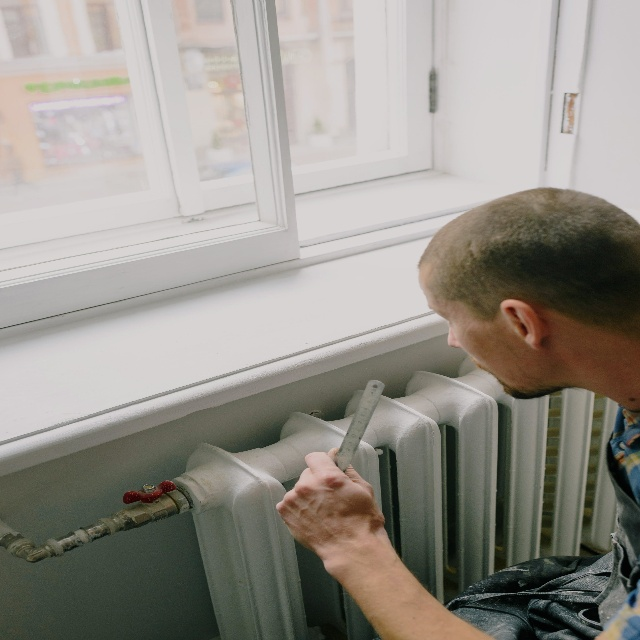Sin_guantes: (274, 442, 388, 583)
